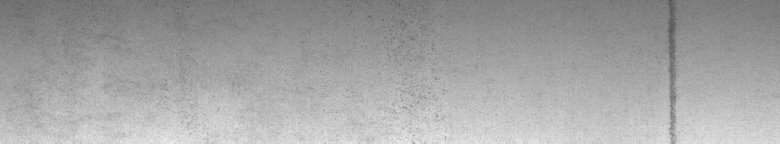hd: (664, 4, 680, 136)
